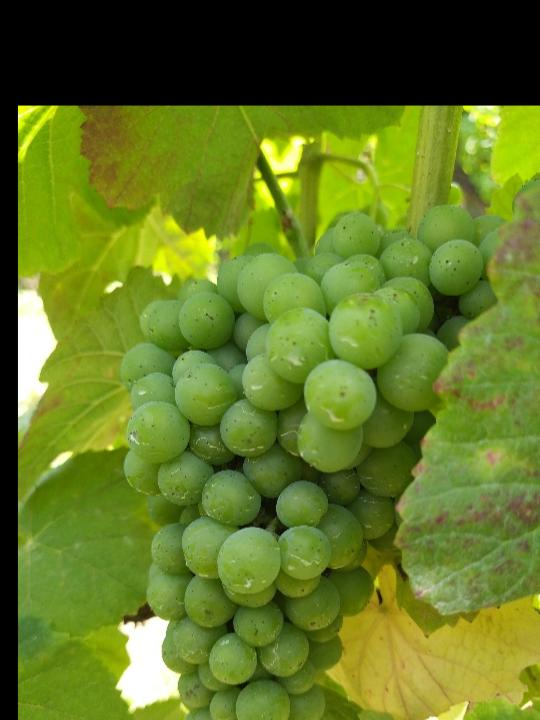grape: (119, 208, 516, 720)
